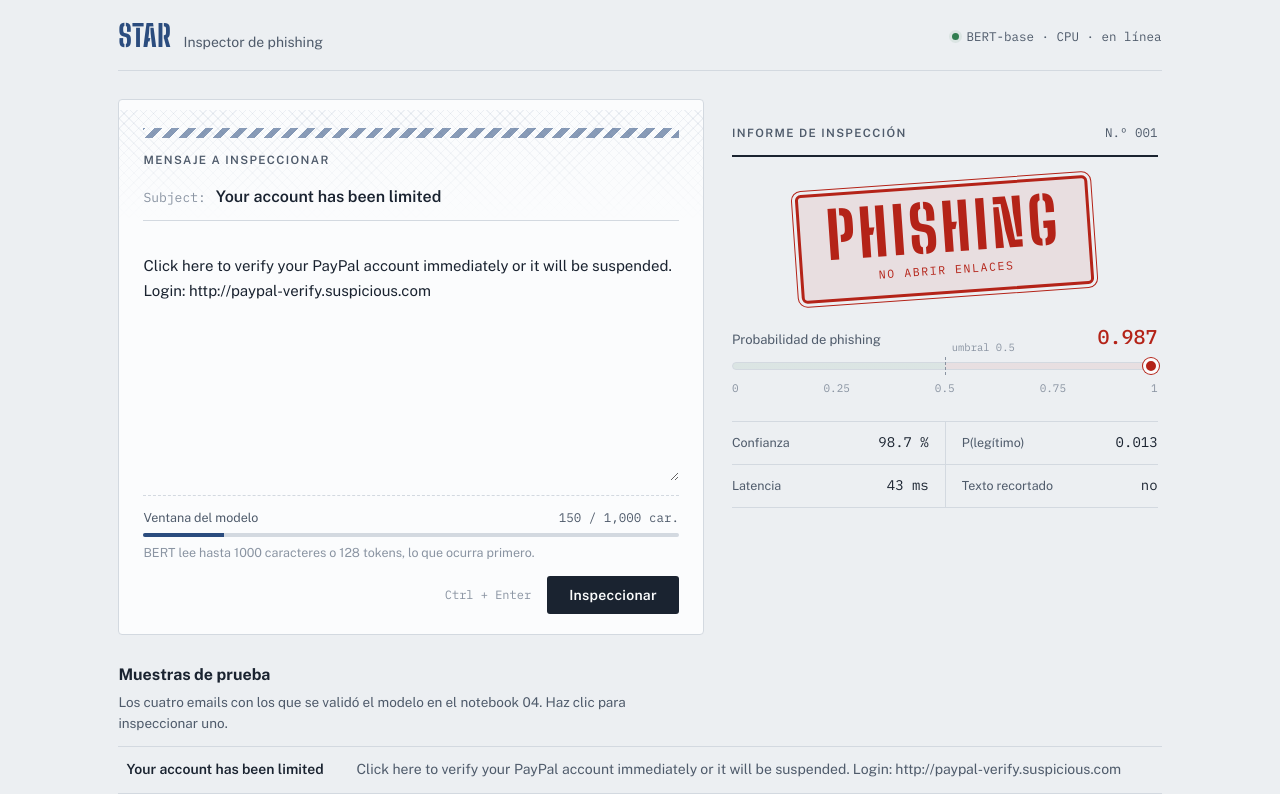
Test case: App: formulario › Ctrl+Enter envía desde el asunto y desde el cuerpo
This screenshot has width=1280, height=794.
expect the text "N.º 001" is shown: met, box x1=1105 y1=123 x2=1158 y2=142
Click the field labelled "Subject:". click: (447, 197)
box: x1=216 y1=184 x2=679 y2=210
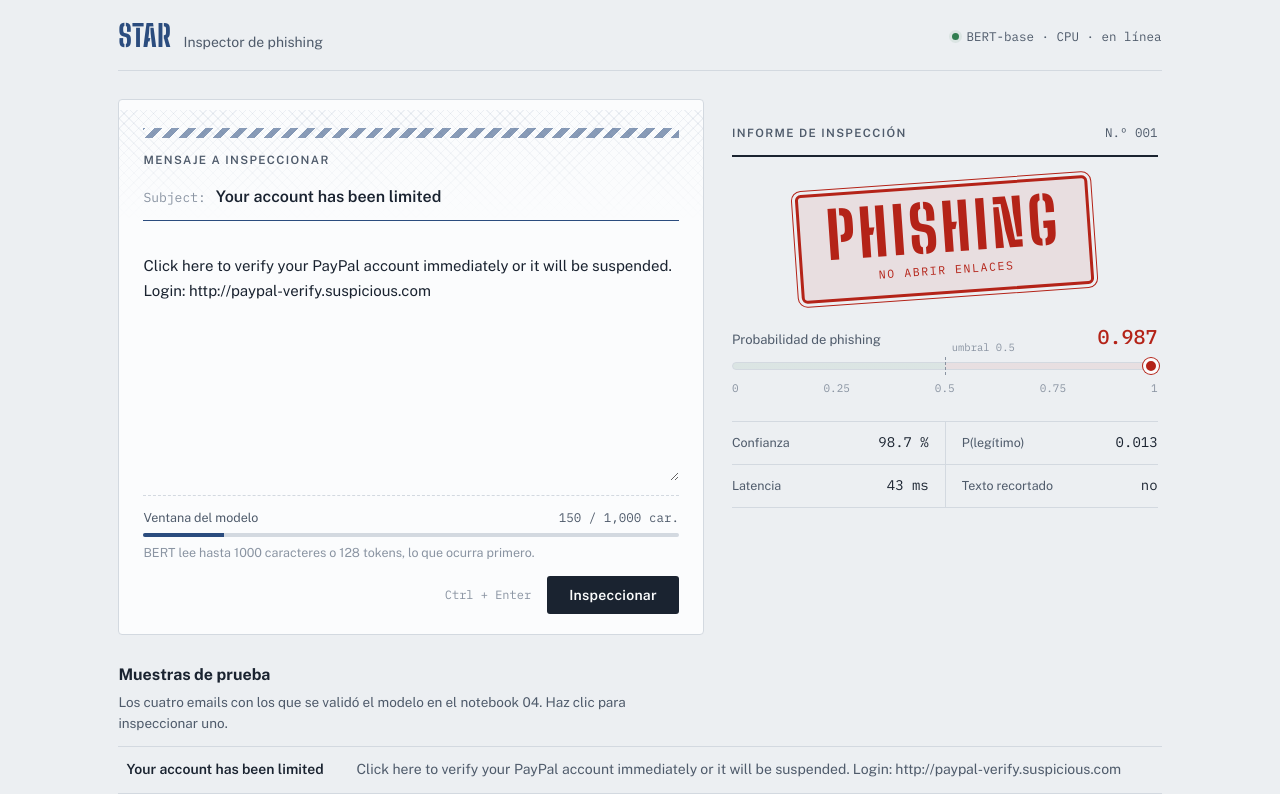
Type keys "{Control>}{Enter}{/Control}"
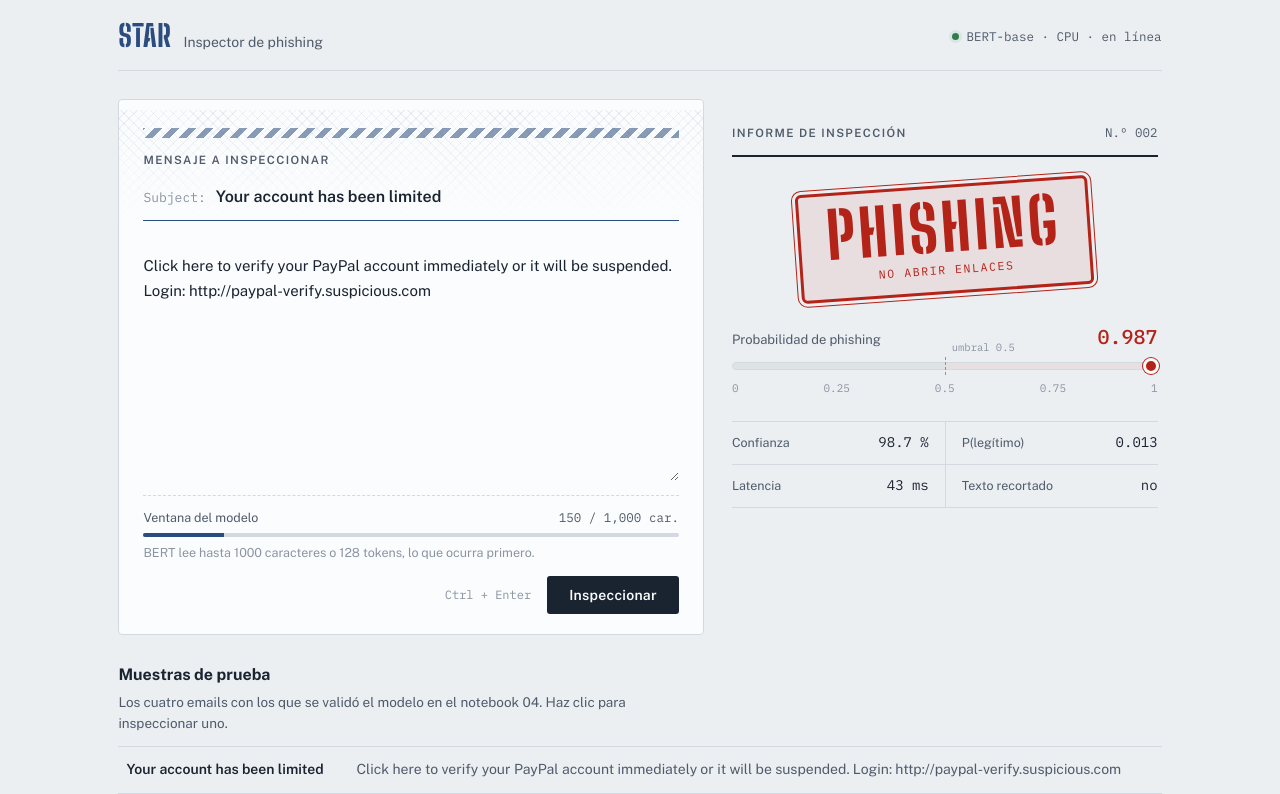
expect the text "N.º 002" is shown: met, box x1=1105 y1=123 x2=1158 y2=142
Click the text box named "Cuerpo del mensaje". click: (411, 365)
box: x1=143 y1=250 x2=679 y2=481
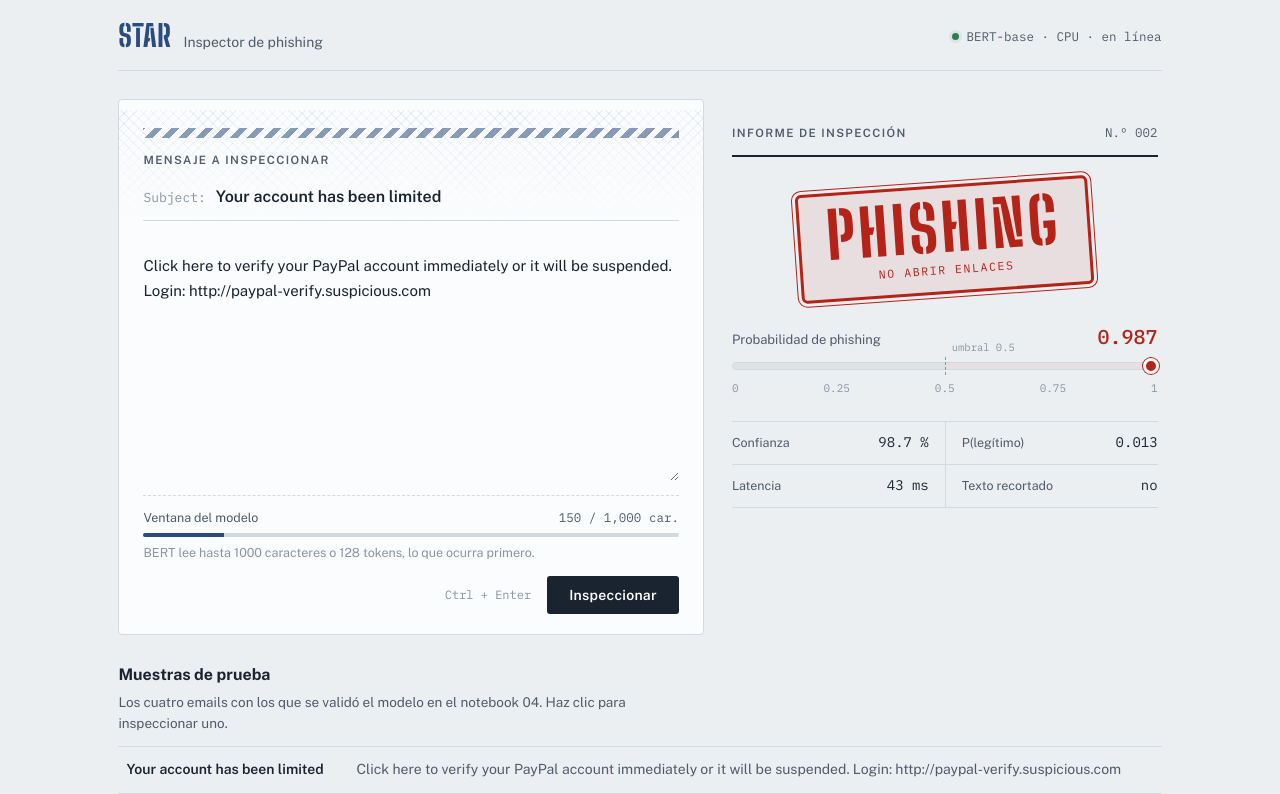
Type keys "{Control>}{Enter}{/Control}"
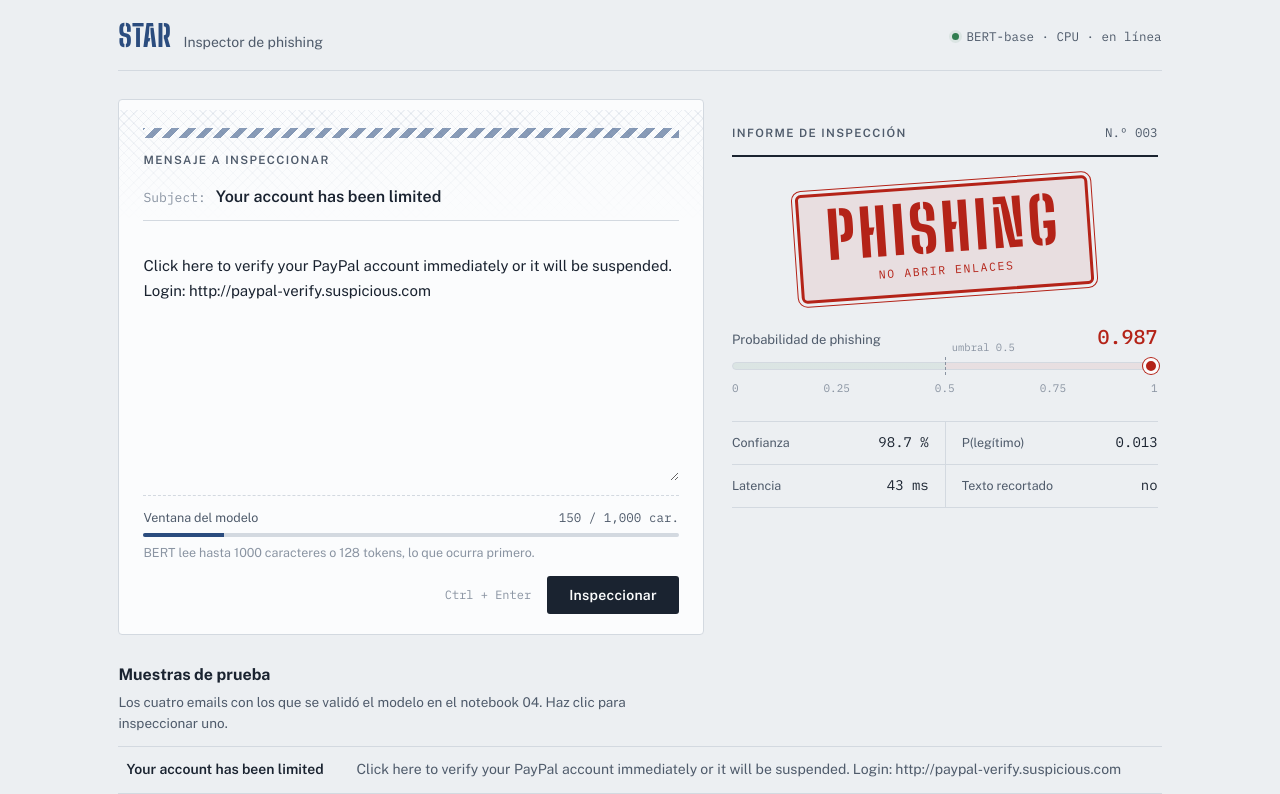
expect the text "N.º 003" is shown: met, box x1=1105 y1=123 x2=1158 y2=142
